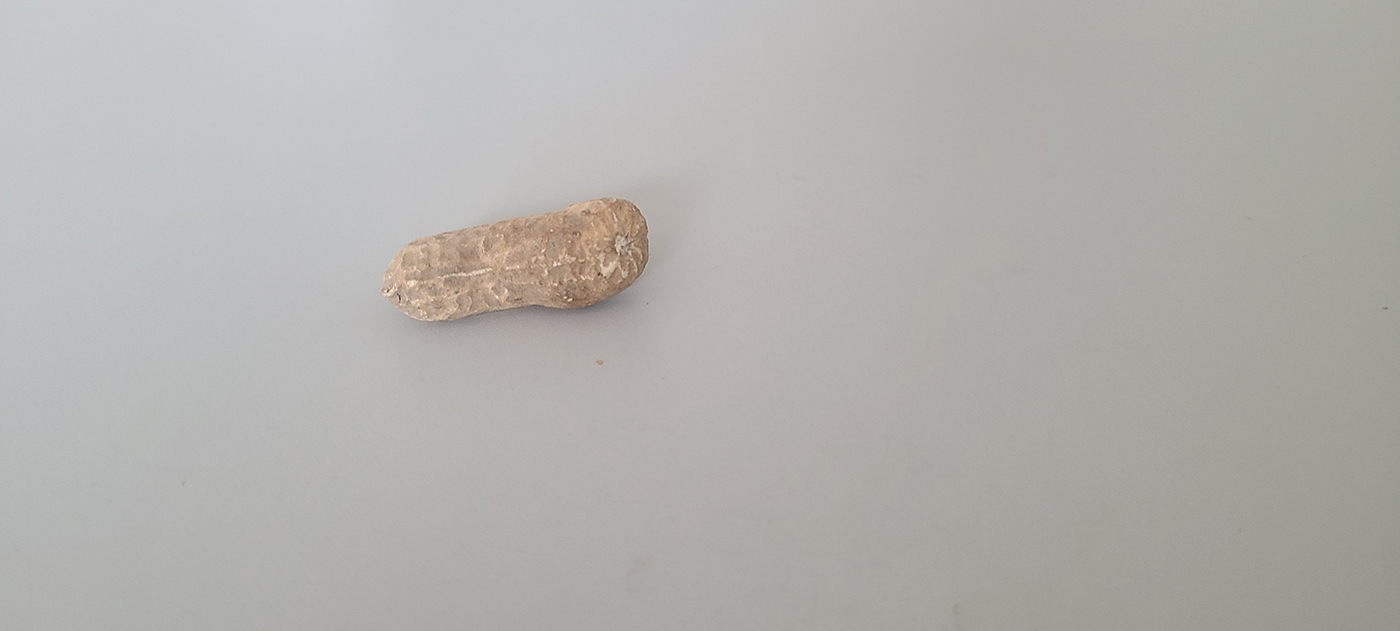h: (383, 194, 650, 323)
